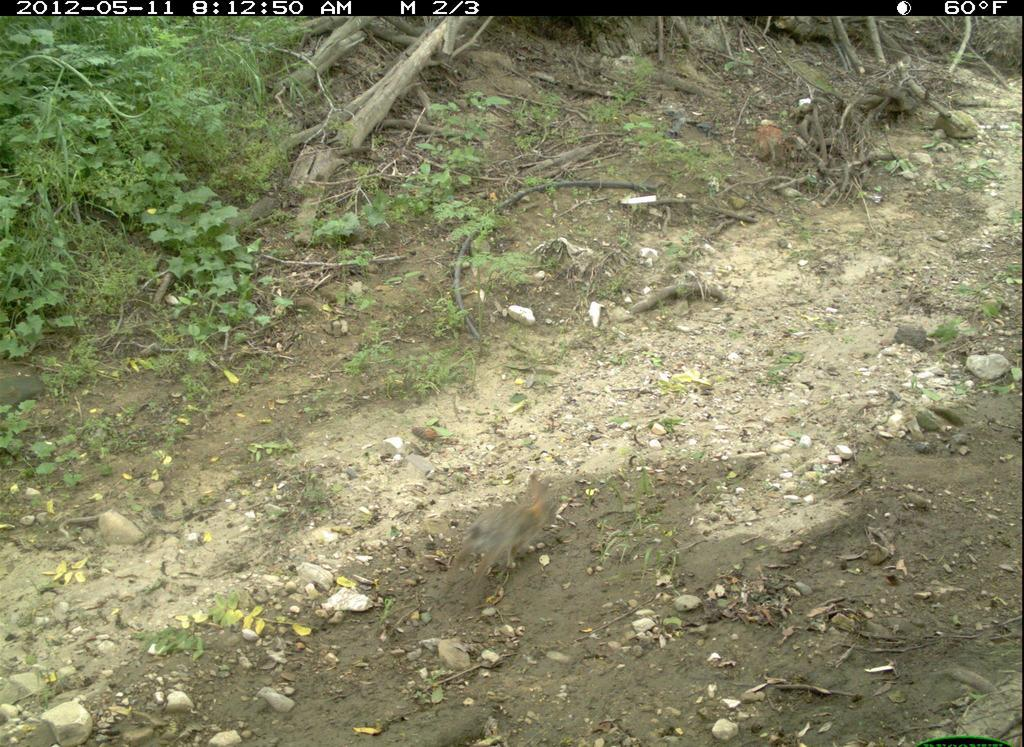rabbit: (449, 466, 574, 600)
